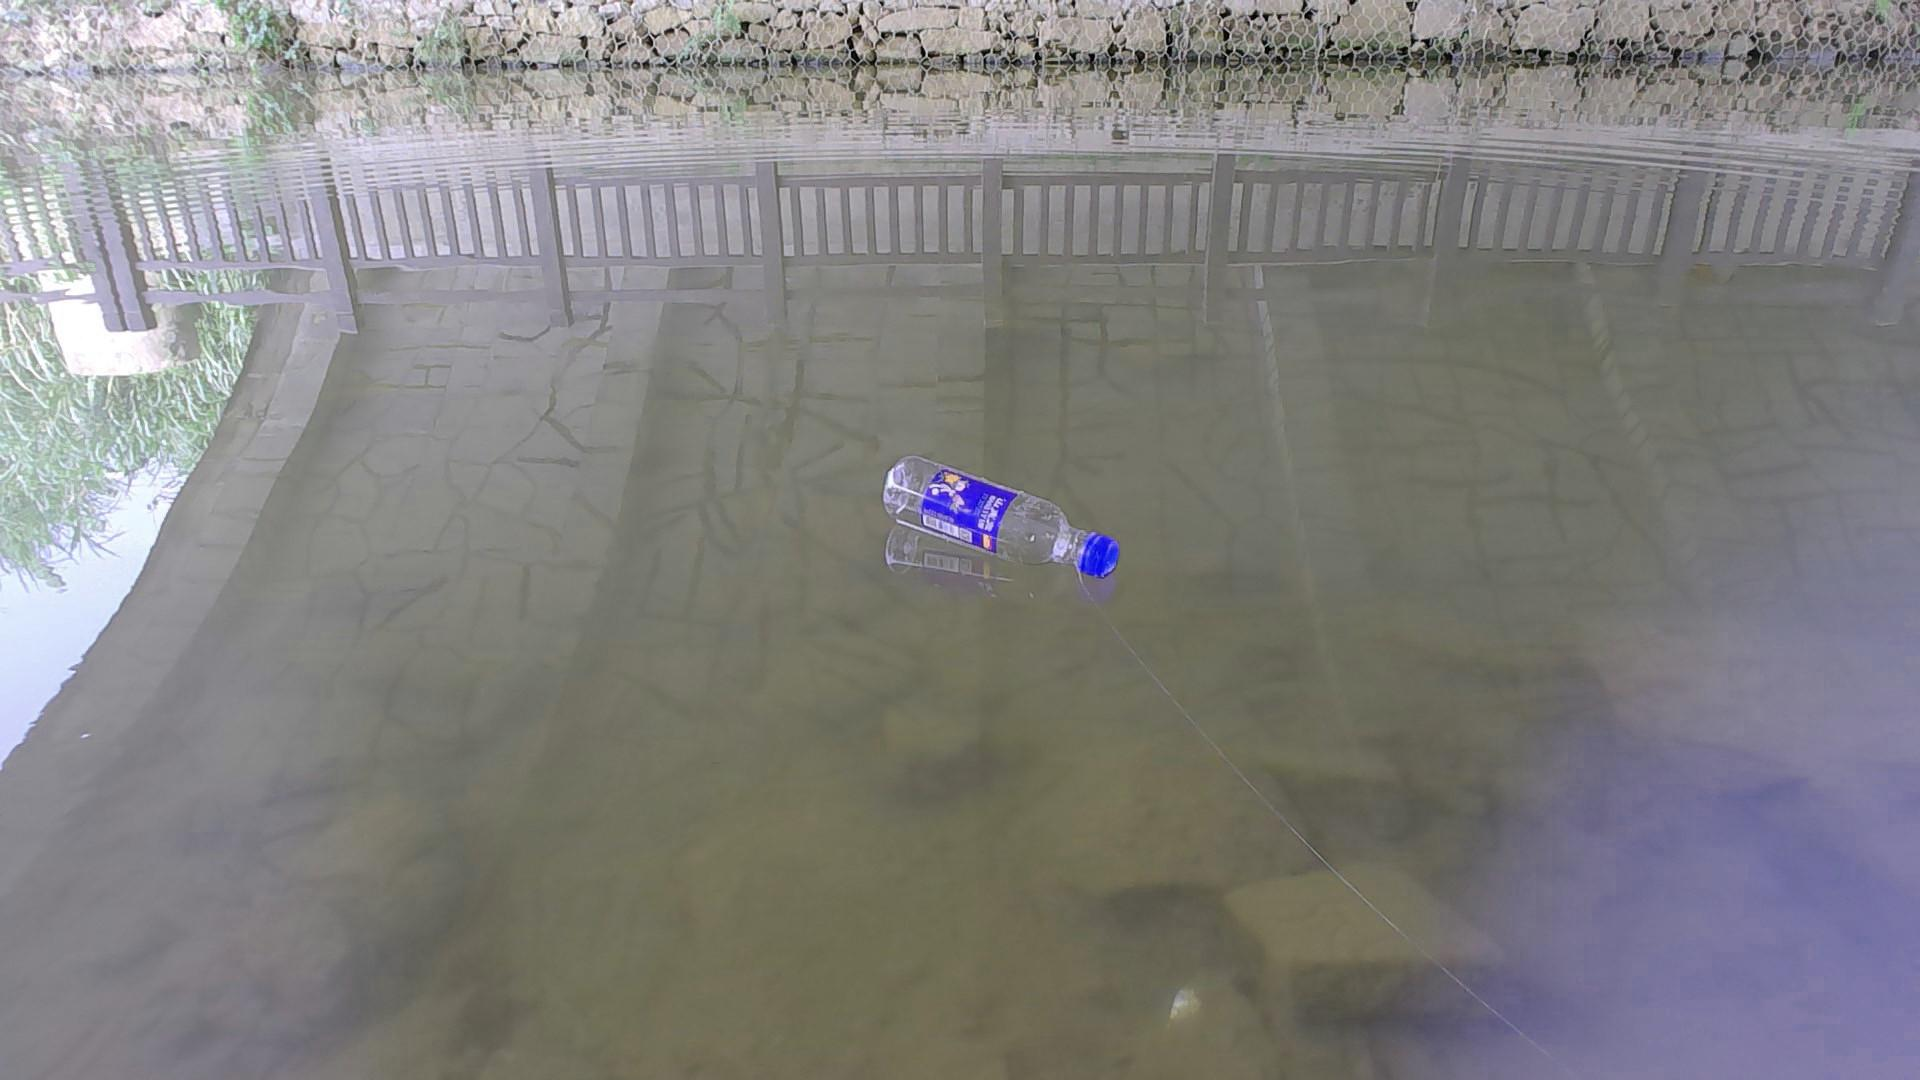Plastic: (878, 451, 1122, 580)
